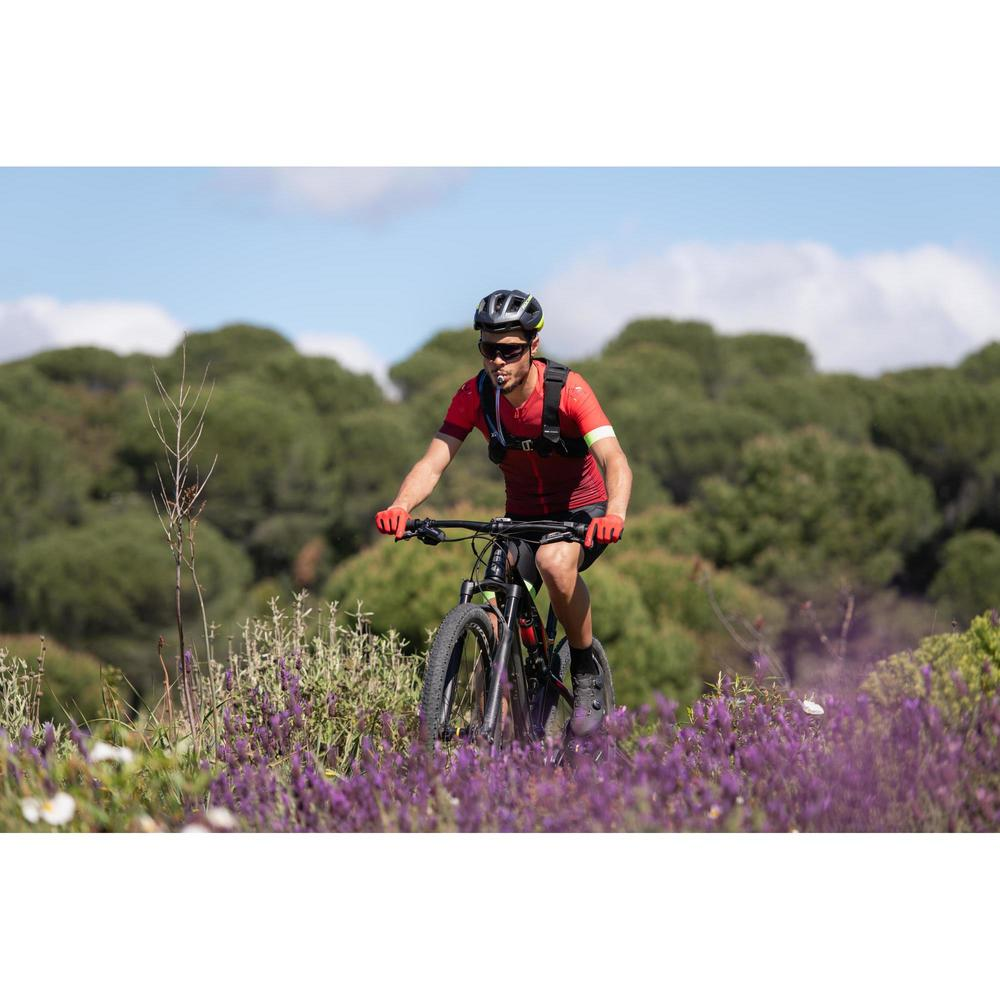MountainBike: (359, 489, 609, 760)
